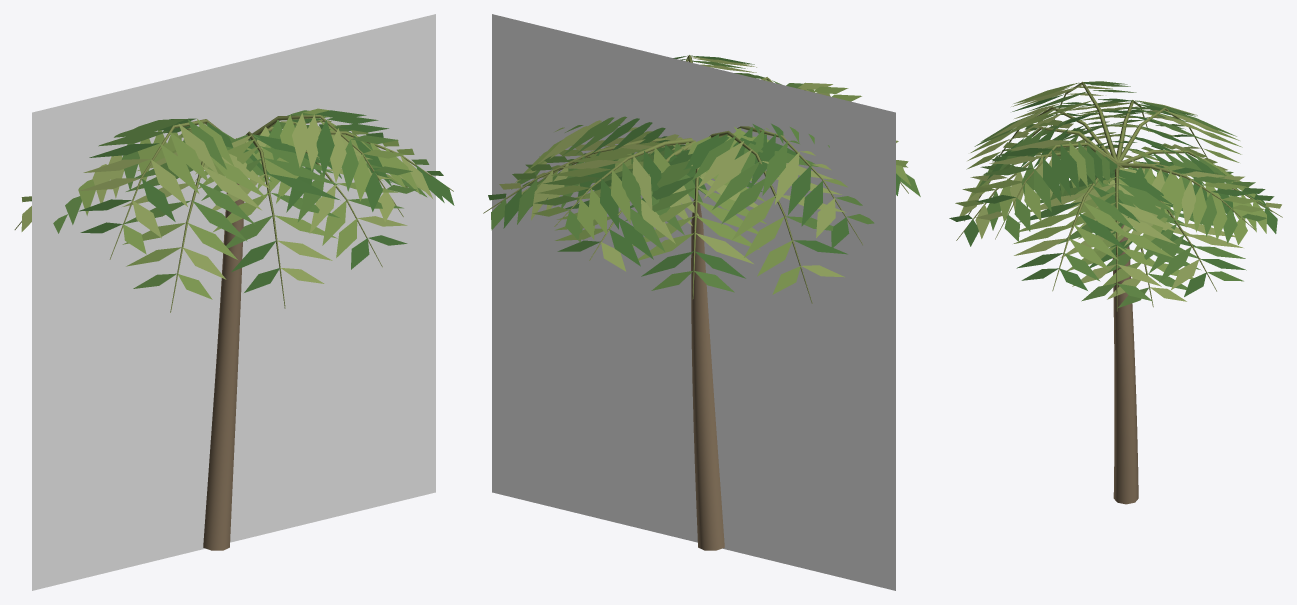
Rendered from palm.glb.
3 renders of one model, left to right at view 1: azimuth 30°, elevation 25°; view 2: azimuth 150°, elevation 25°; view 3: azimuth 270°, elevation 25°, orthographic. The views are drawn at different scales.
Parts seen in each view (by area): view 1: veg_palm_billboard, veg_palm_lod0; view 2: veg_palm_billboard, veg_palm_lod0; view 3: veg_palm_lod0.
Boxes of the visible parts, x1,y1,x2,y2 form: veg_palm_billboard: (32,14,435,590); veg_palm_lod0: (14,108,454,550); veg_palm_billboard: (492,14,895,590); veg_palm_lod0: (483,55,920,550); veg_palm_lod0: (949,81,1282,504).
Size of what is drawn, in the model's own units: 7.33 by 8.3 by 6.14.
